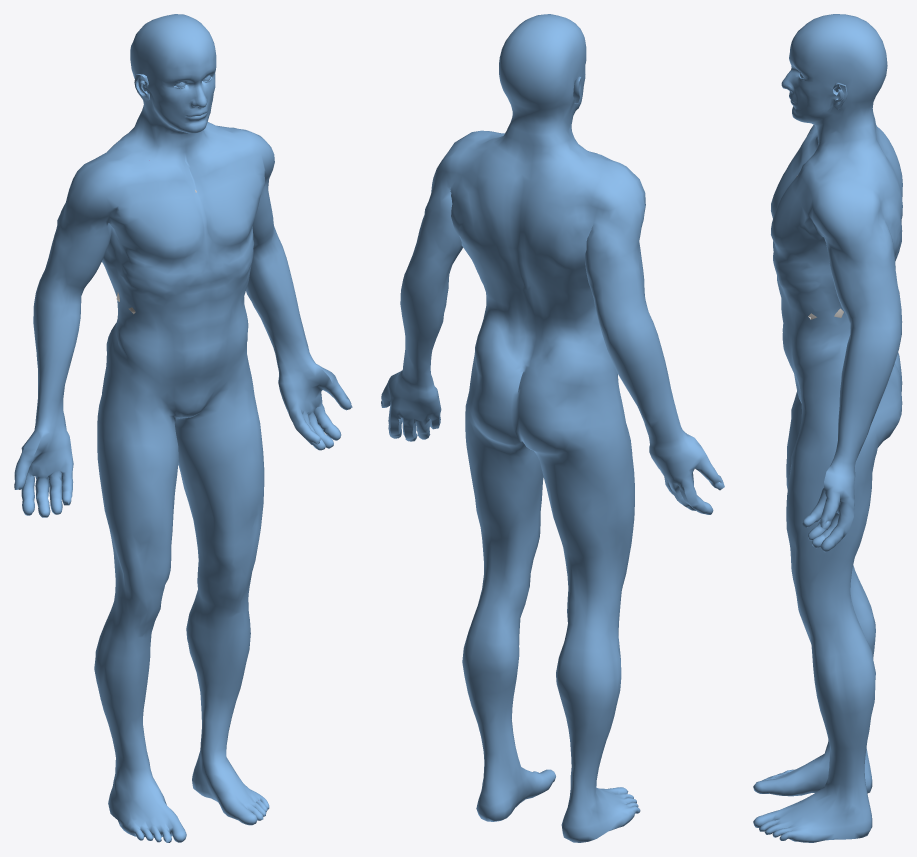
The model's file is Anatomy_Man_Silhouette+Lungs.fbx.
3 views of the same model, side by side, from view 1: azimuth 30°, elevation 25°; view 2: azimuth 150°, elevation 25°; view 3: azimuth 270°, elevation 25° (orthographic).
Parts seen in each view (by area): view 1: Anatomy_Man_Silhouette:Man_Silhouette; view 2: Anatomy_Man_Silhouette:Man_Silhouette; view 3: Anatomy_Man_Silhouette:Man_Silhouette.
Boxes of the visible parts, <box> form: Anatomy_Man_Silhouette:Man_Silhouette: <box>14,14,352,842</box>; Anatomy_Man_Silhouette:Man_Silhouette: <box>381,14,724,842</box>; Anatomy_Man_Silhouette:Man_Silhouette: <box>753,14,902,842</box>.
Size of the model in its own units: 80.27 by 179 by 30.6.
